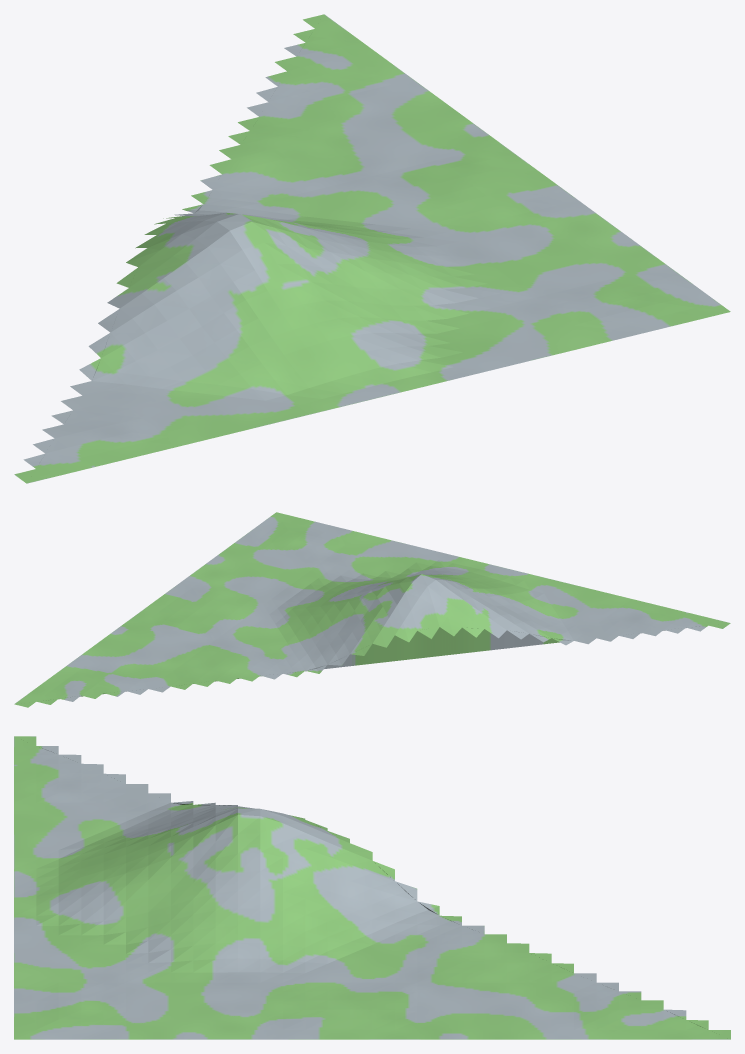
The model's file is Grass_RockyGround_08_NE.obj.
3 views of the same model, one above another, from view 1: azimuth 30°, elevation 25°; view 2: azimuth 150°, elevation 25°; view 3: azimuth 270°, elevation 25° (orthographic). The views are drawn at different scales.
Bounding box in the file's own units: 10 × 1.13 × 10.
Materials: 1 (1 with a texture image).
